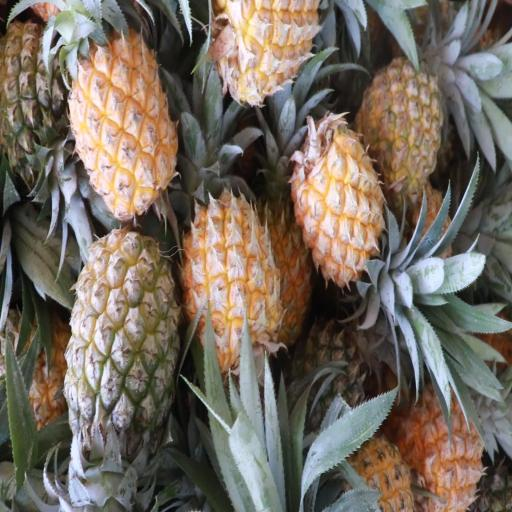------------------------------: (64, 234, 176, 454), (360, 60, 443, 195)
Pineapple - v8 v1: (70, 32, 174, 216), (189, 194, 282, 370), (300, 117, 385, 287), (402, 373, 487, 512), (218, 0, 316, 100)
